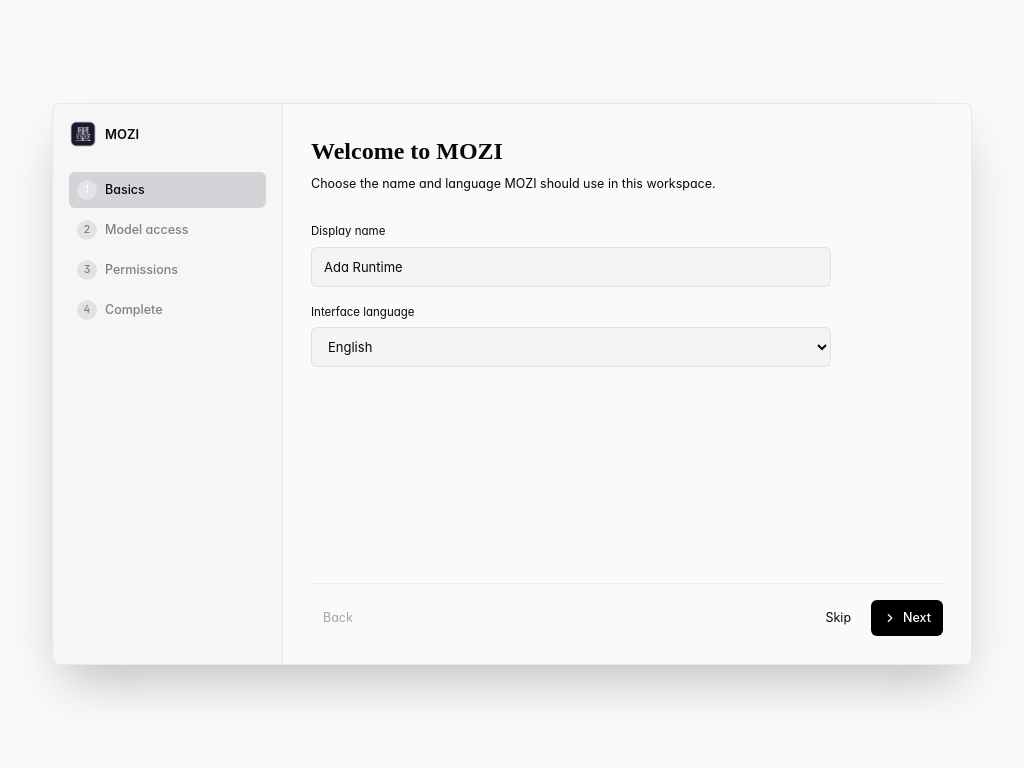
Test: OnboardingWizard › stops completion when a profile write fails
Replace the text in the field showing "Ada Runtime" with "Ada Failed": (571, 267) [311, 247, 831, 287]
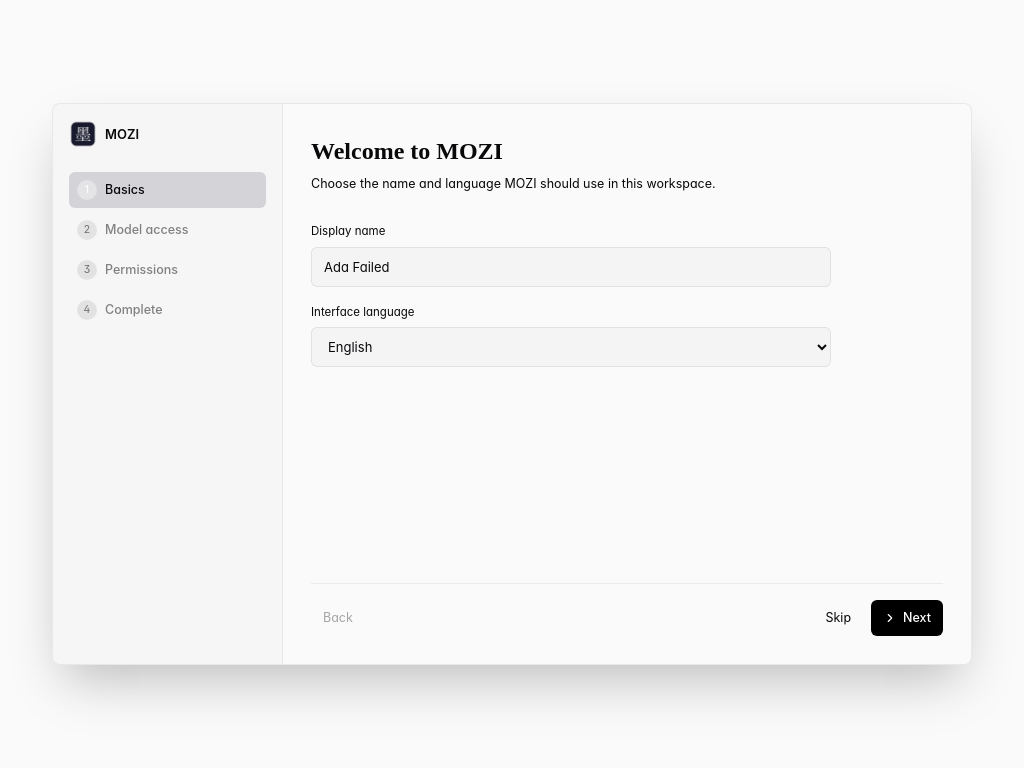
Click the button "Skip": (838, 618) [814, 600, 863, 636]
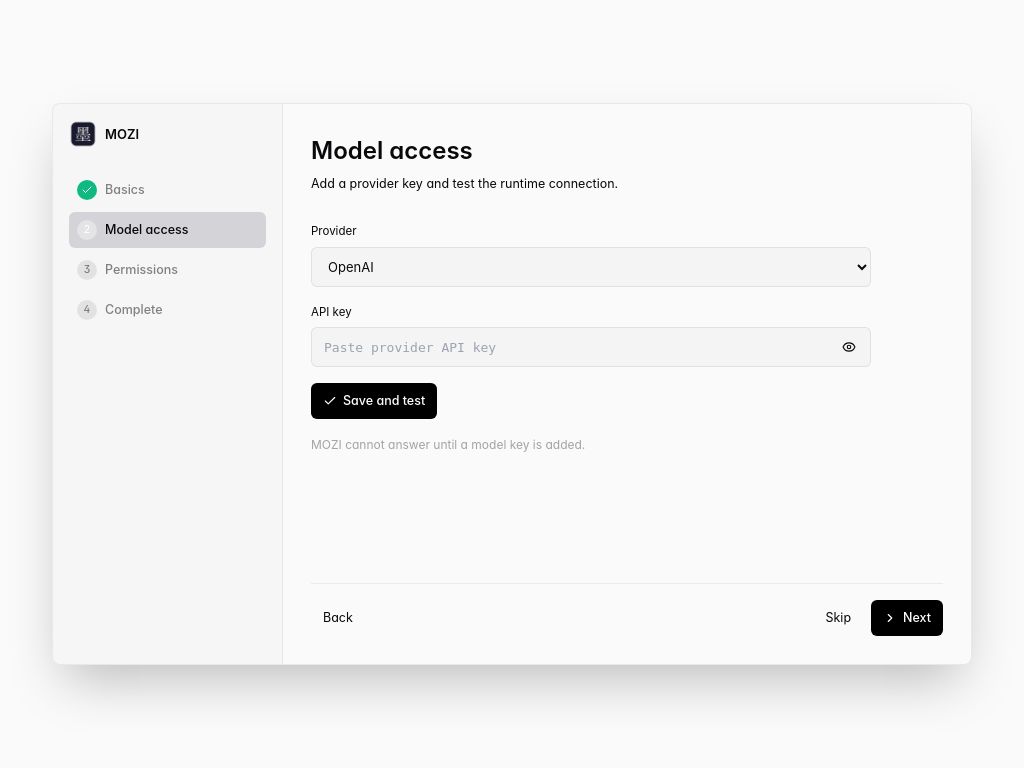
Click the button "Skip": (838, 618) [814, 600, 863, 636]
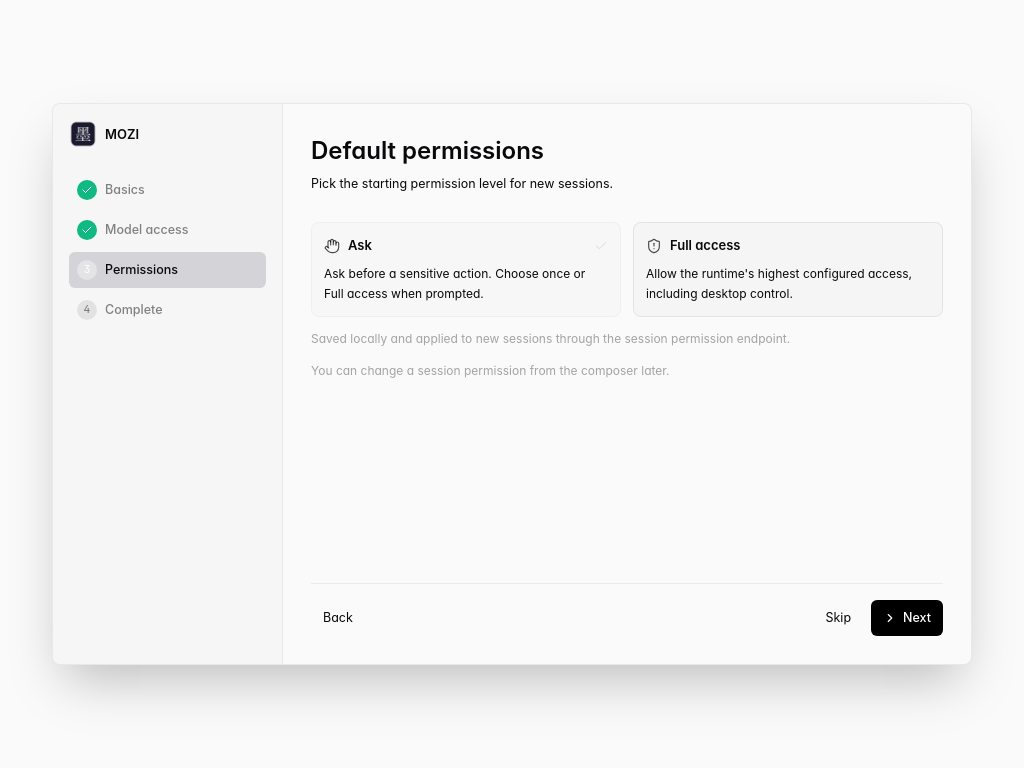
Click the button "Skip": (838, 618) [814, 600, 863, 636]
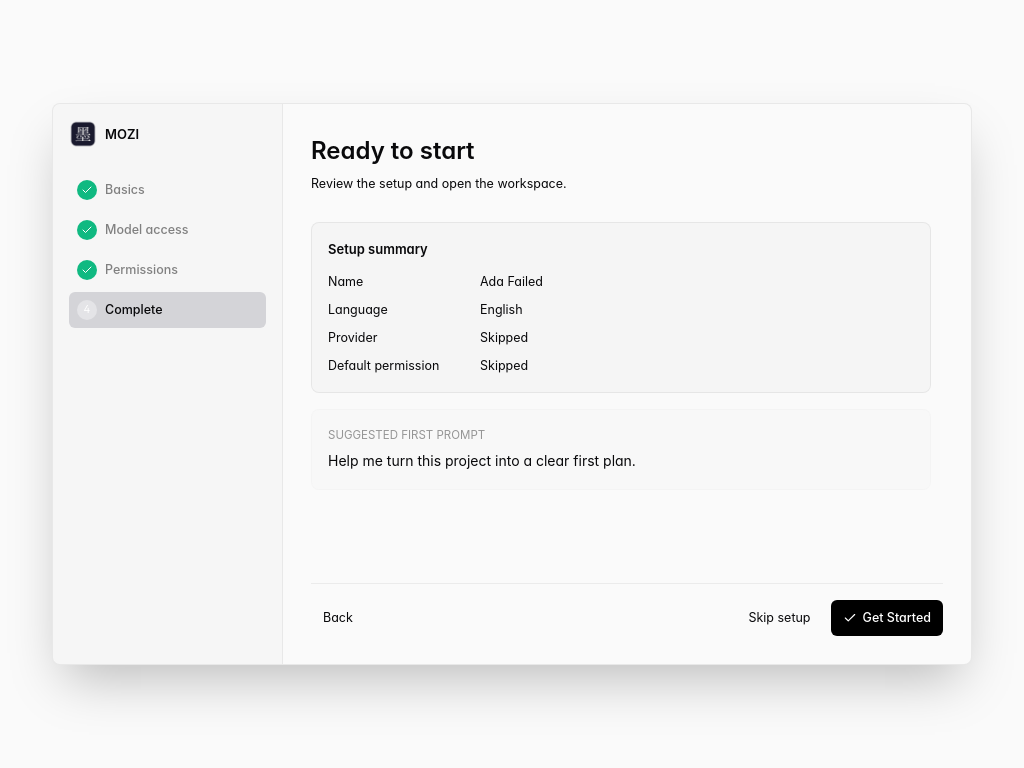
Click the button "Get Started": (887, 618) [830, 600, 943, 636]
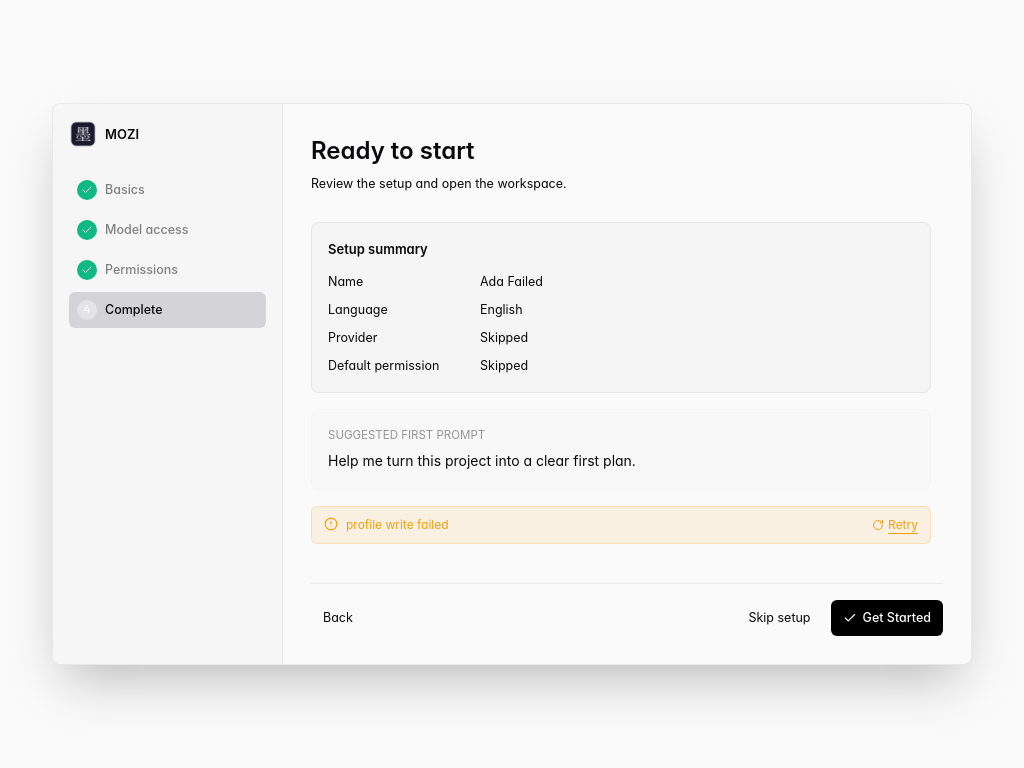
Check: the text "profile write failed" is shown, box [346, 517, 449, 532]
